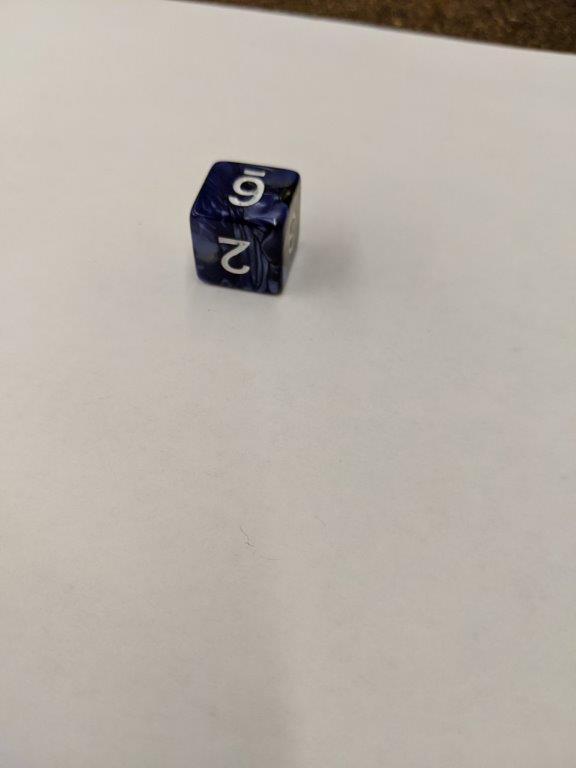d6-6: (188, 158, 303, 295)
